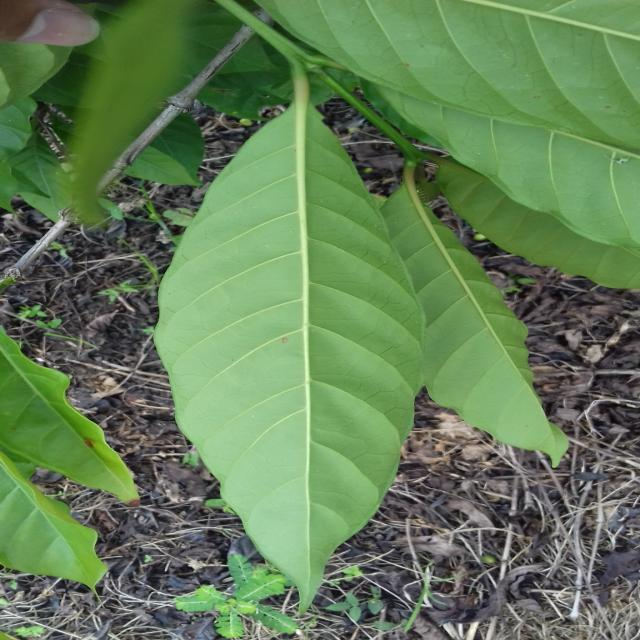Plaga-AranaRoja: (154, 66, 422, 611)
